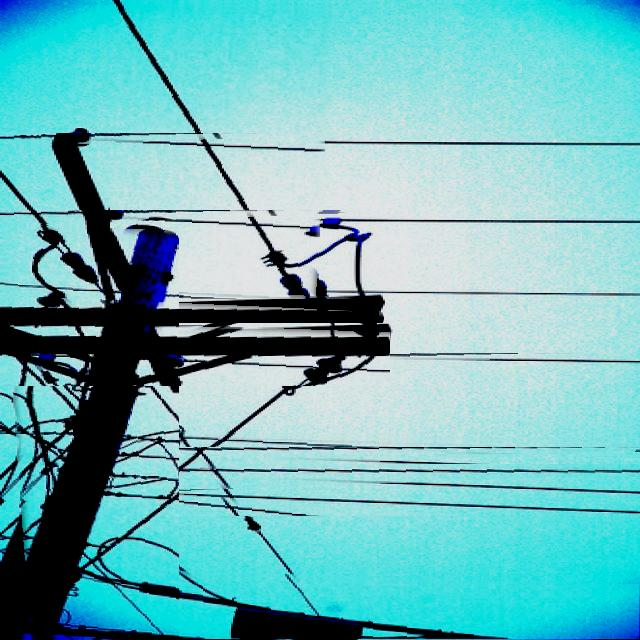crossarm: (0, 325, 390, 386), (0, 308, 384, 323)
pole: (20, 228, 179, 640)
wire: (110, 1, 317, 298), (52, 568, 564, 640), (105, 430, 602, 454), (83, 487, 379, 516), (95, 464, 639, 479), (0, 282, 306, 299), (98, 447, 640, 455), (0, 210, 515, 218), (0, 133, 453, 142), (342, 353, 640, 360)
